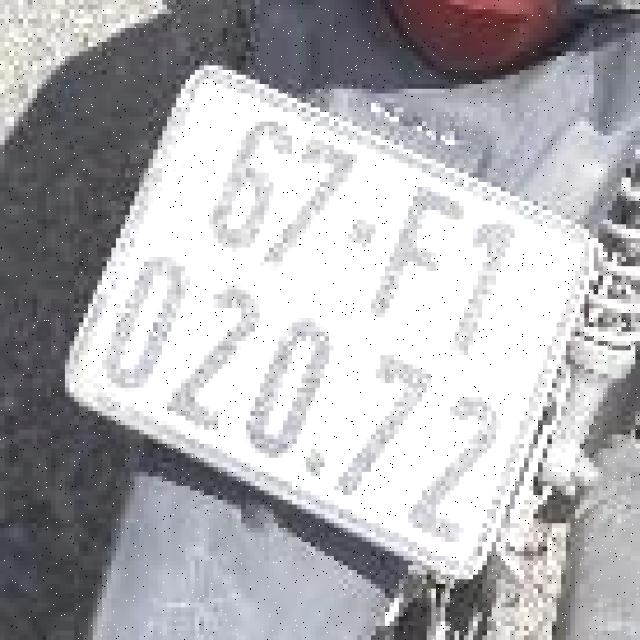0: (85, 237, 206, 413), (230, 305, 353, 477)
1: (423, 193, 544, 379)
2: (392, 372, 518, 565), (154, 265, 280, 441)
6: (185, 95, 308, 271)
7: (248, 122, 373, 305), (321, 335, 444, 514)
F: (355, 169, 480, 343)
